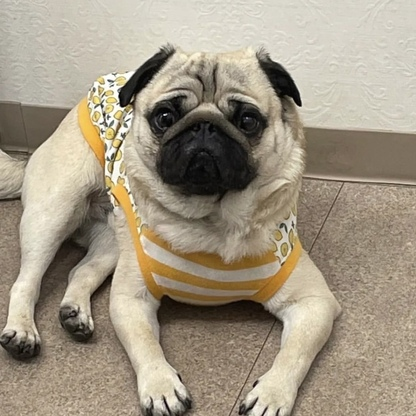Pug: (1, 36, 350, 416)
